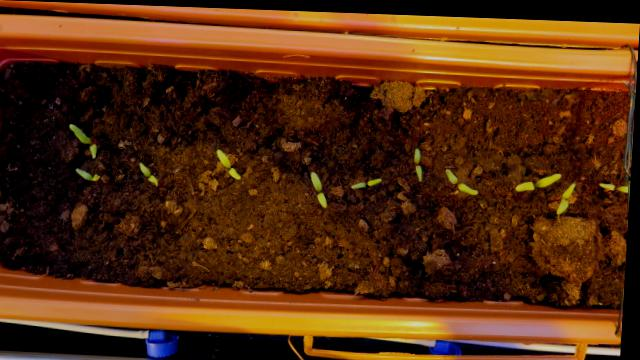crop: (65, 120, 104, 158), (511, 163, 566, 189), (210, 144, 249, 178), (442, 162, 485, 191), (308, 166, 335, 207), (555, 174, 580, 212), (136, 158, 164, 187), (408, 142, 429, 178), (73, 164, 105, 181), (350, 172, 385, 186)
